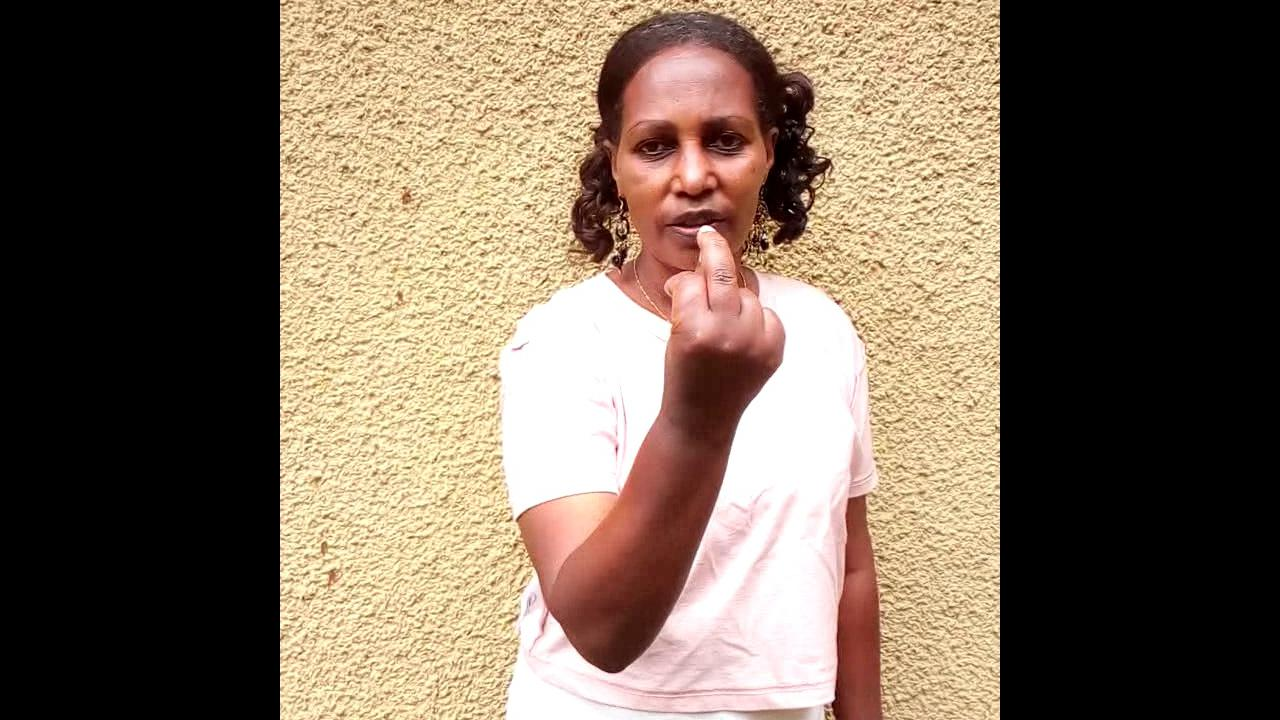CHE: (662, 221, 793, 531)
